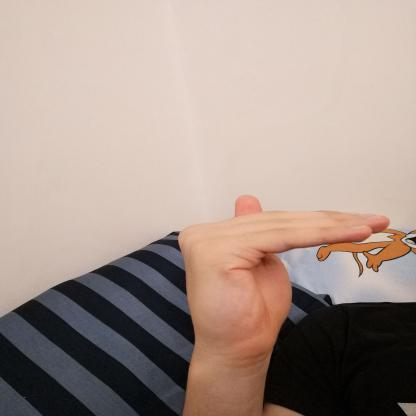KHAA: (162, 184, 406, 354)
